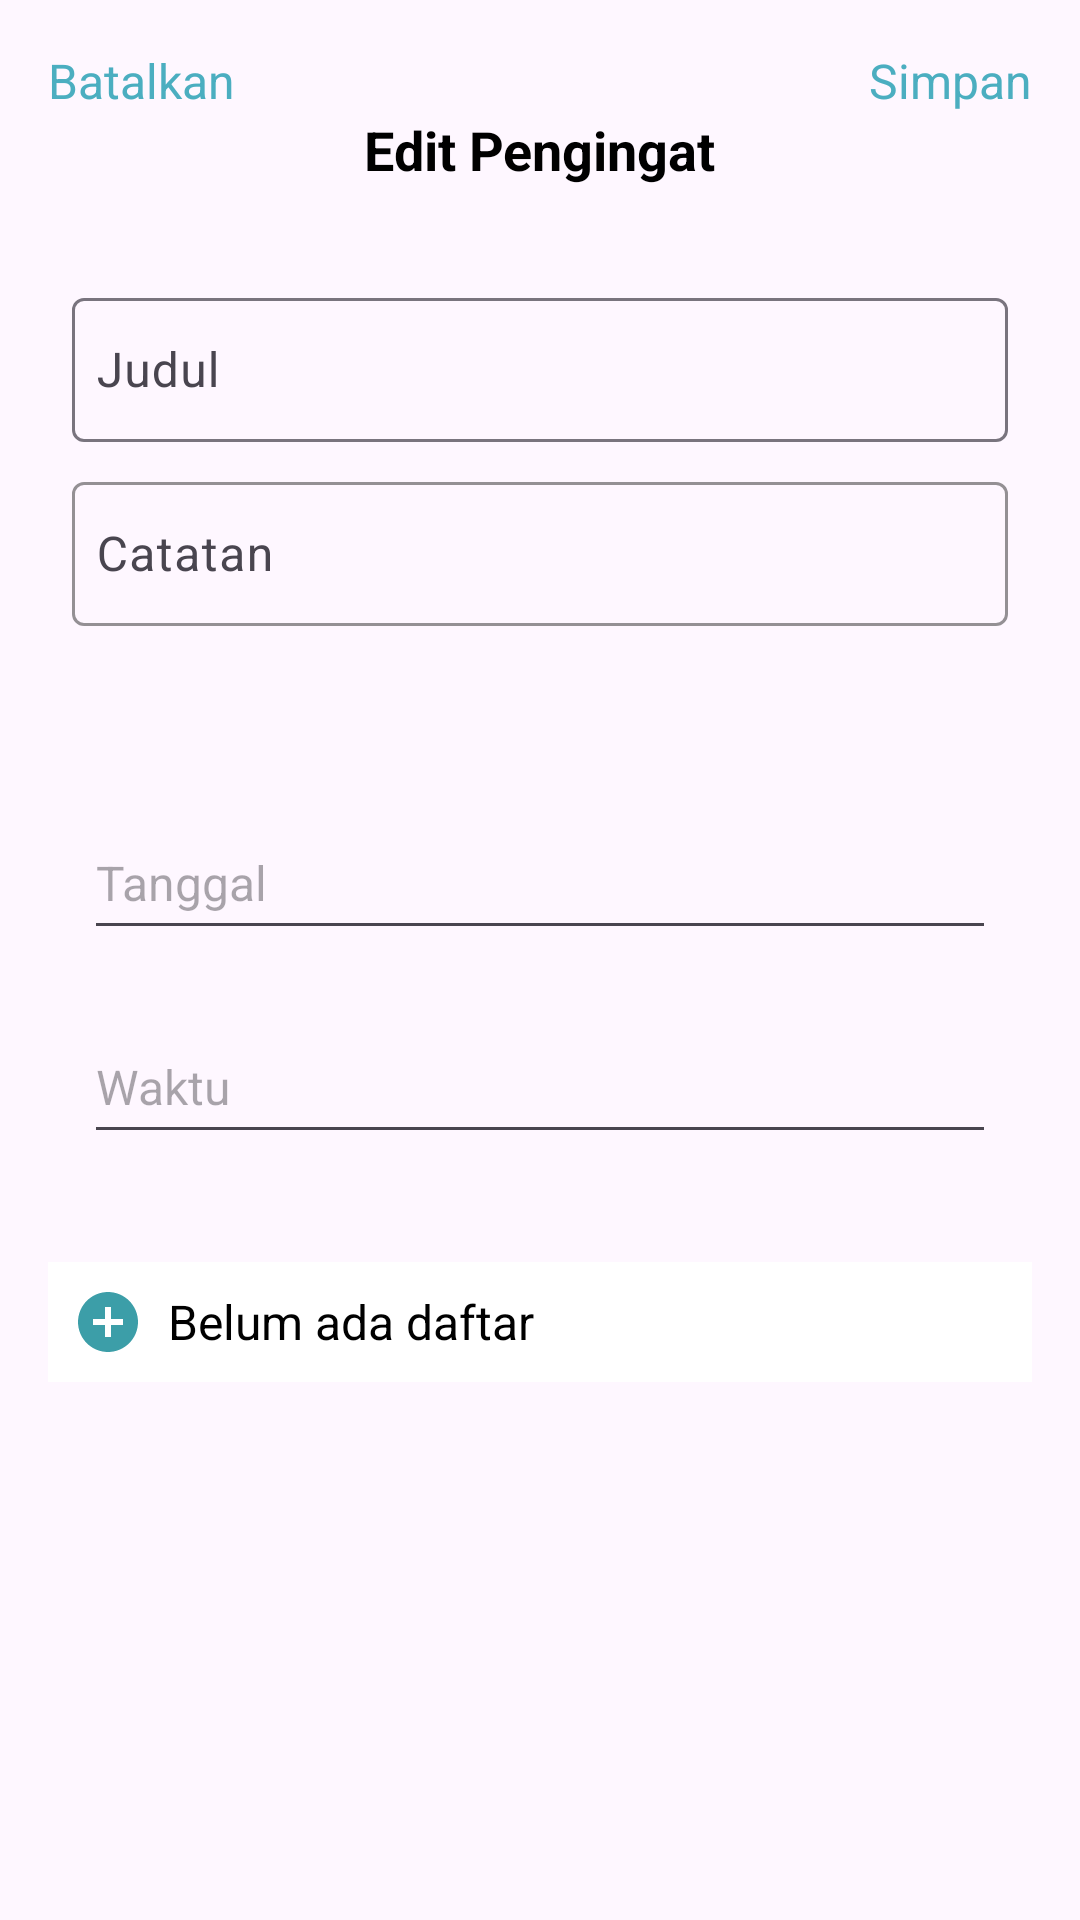

Point at icon controls on the screen. Image size 1080w x 1920h, points as [x,y].
add: [108,1322]
